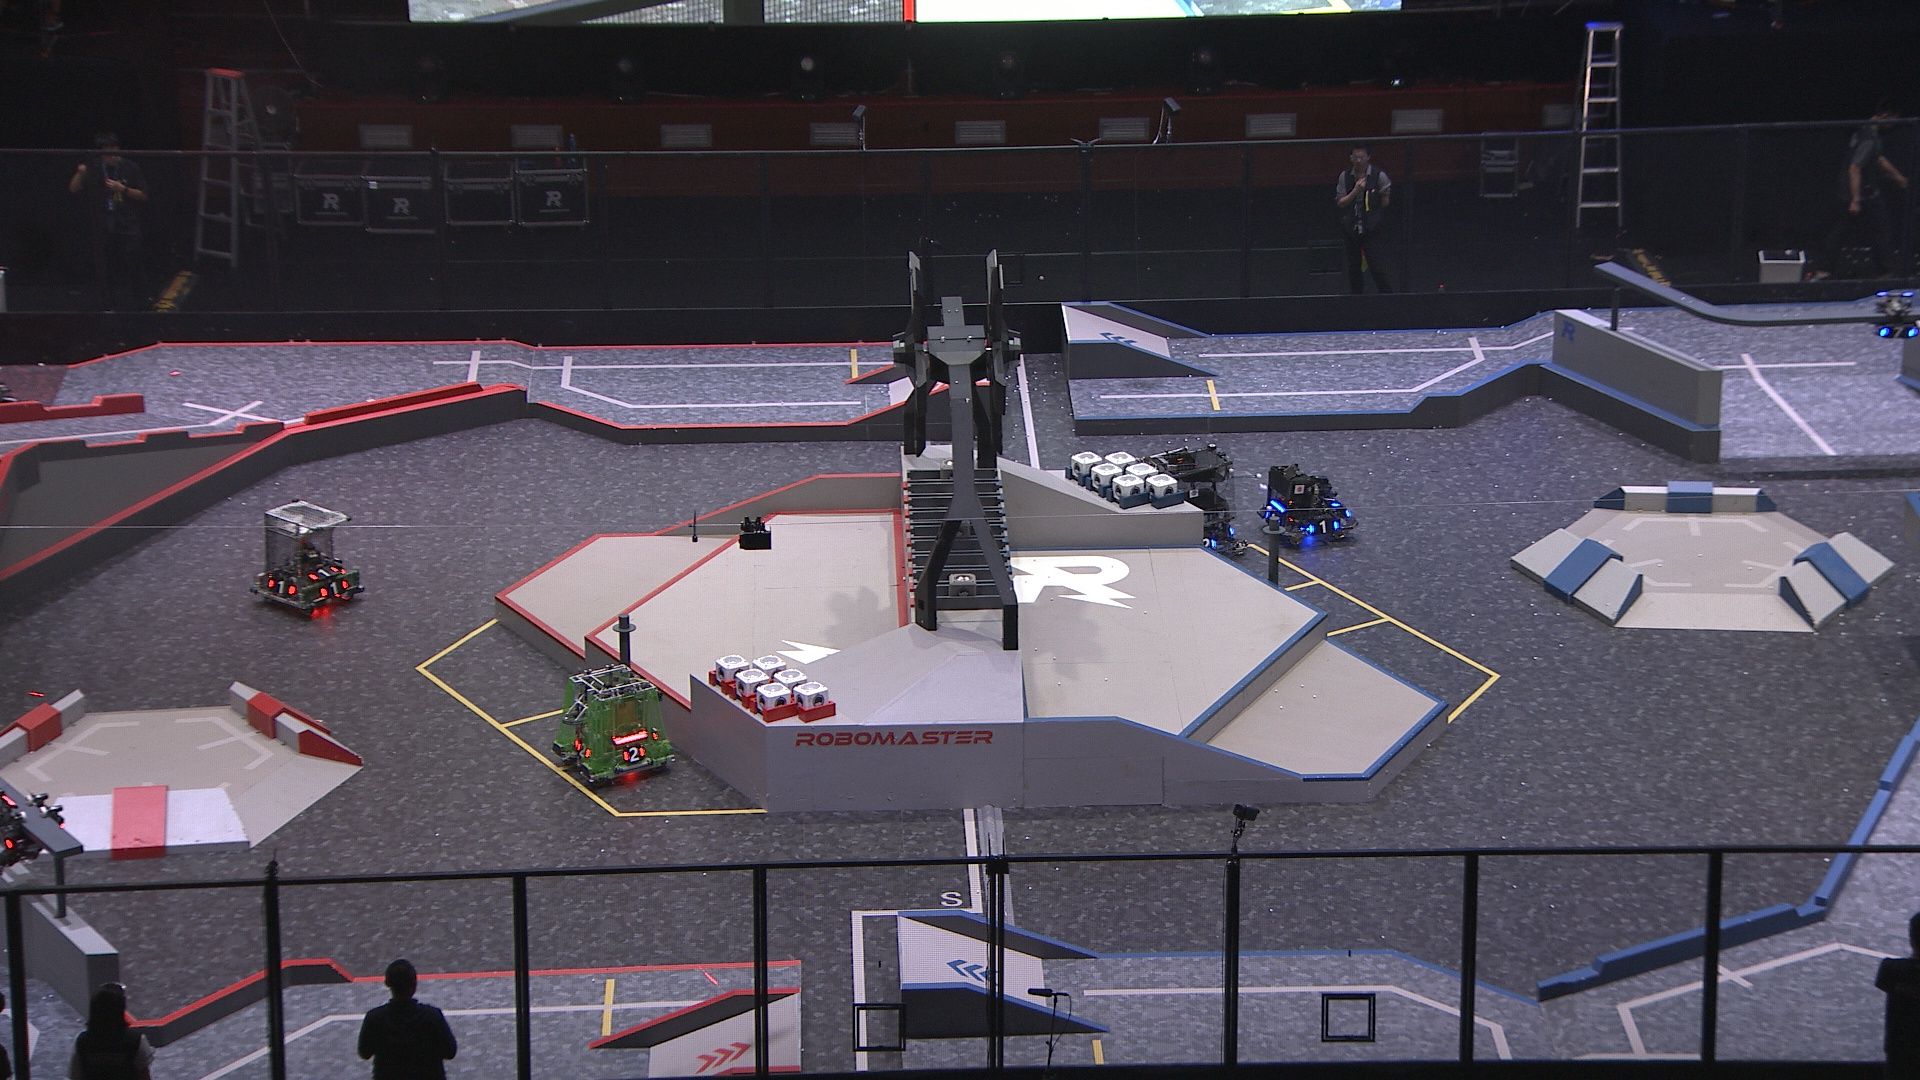armor: (266, 578, 299, 599), (1879, 324, 1917, 342), (309, 564, 340, 583), (1307, 520, 1342, 535), (320, 582, 349, 599), (622, 746, 645, 764), (574, 742, 593, 760), (1320, 496, 1342, 509), (1203, 535, 1218, 551), (1263, 510, 1280, 520)
car: (553, 665, 678, 787), (248, 498, 367, 618), (1139, 444, 1249, 562), (1255, 462, 1358, 549)
watcher: (1874, 290, 1920, 343)
